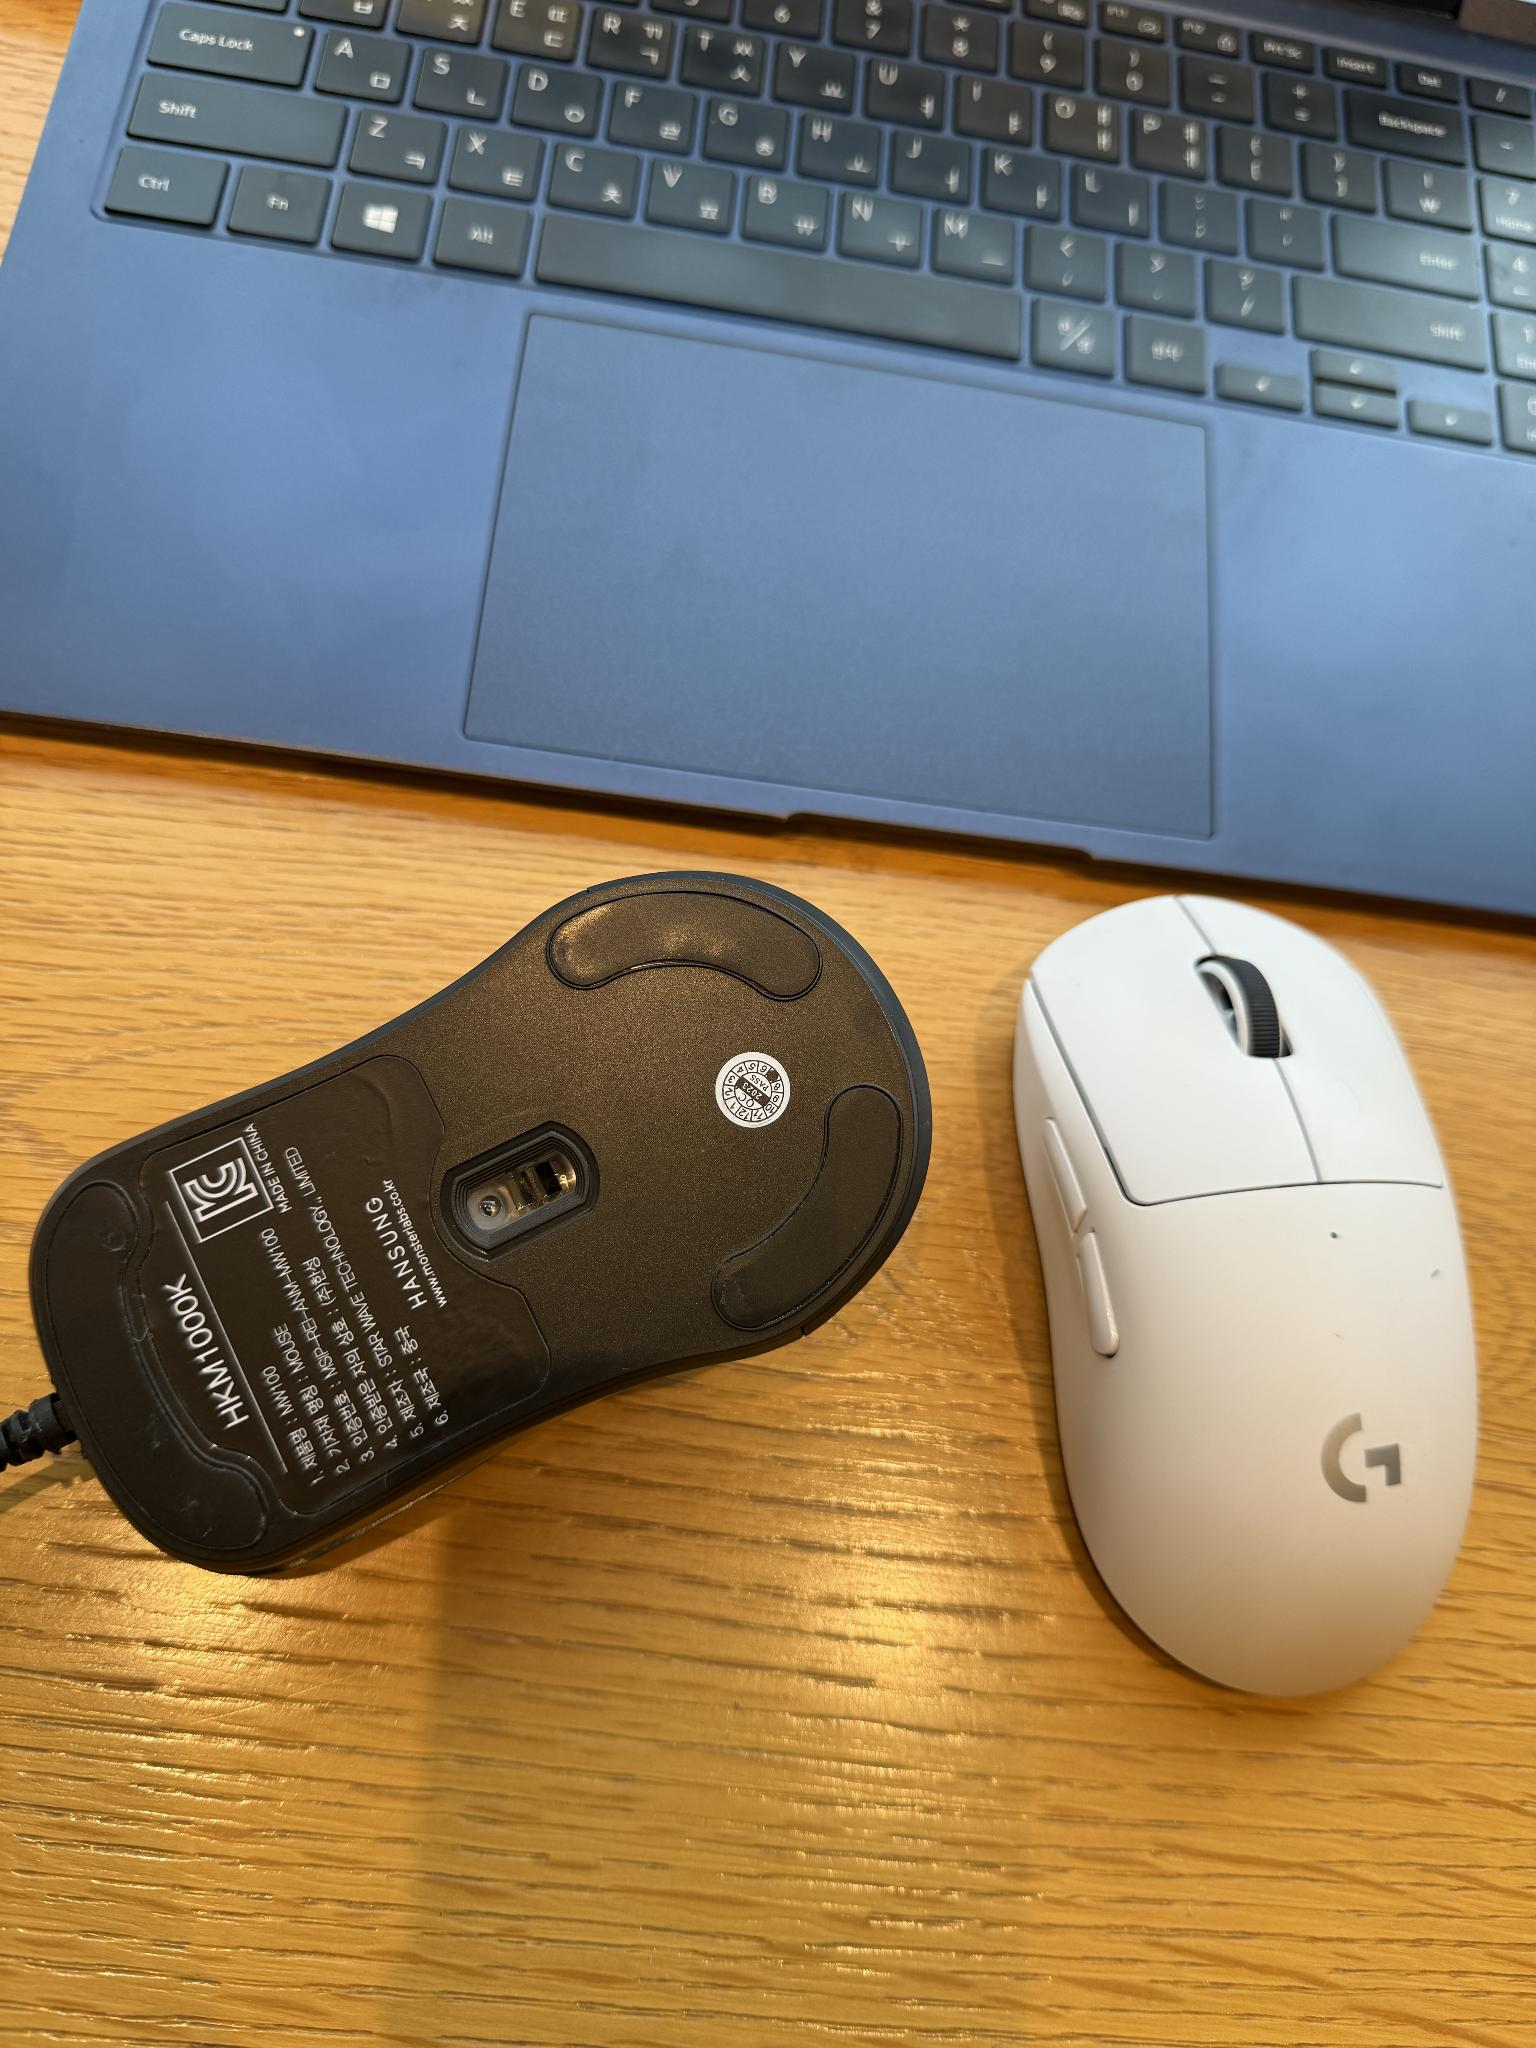back: (29, 868, 933, 1585)
front: (1000, 885, 1499, 1711)
